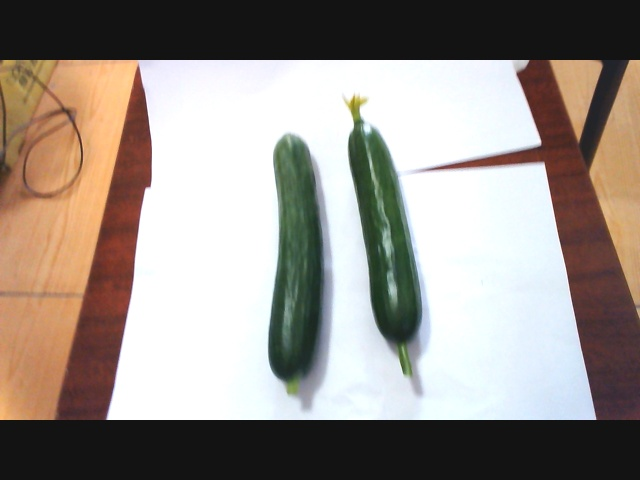cucumber: (339, 115, 430, 367), (261, 141, 331, 412)
